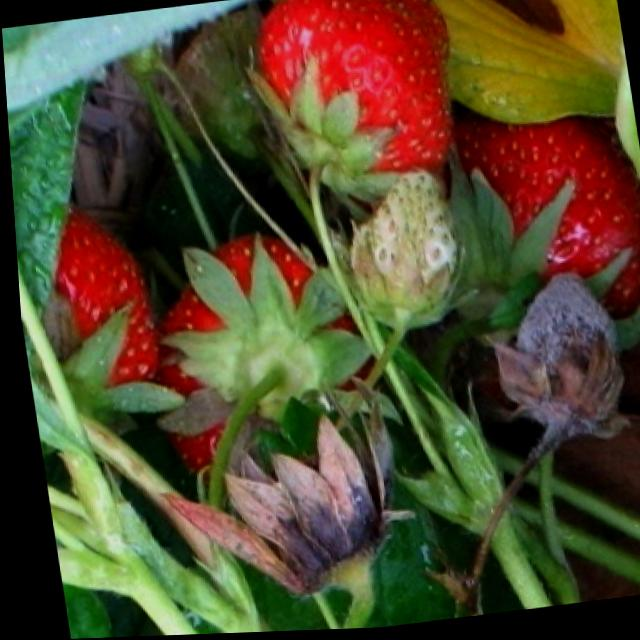Gray Mold: (489, 273, 624, 439)
